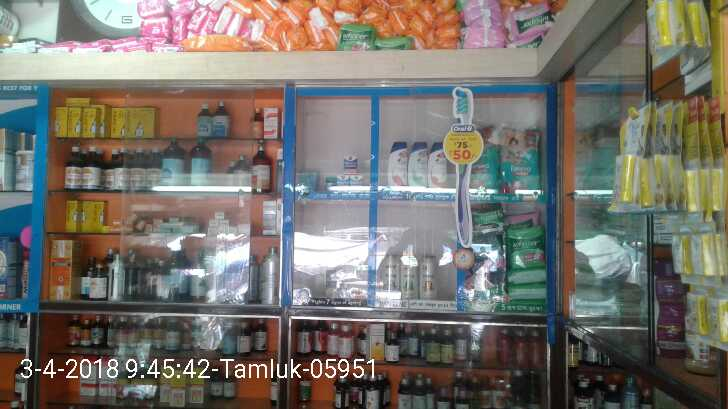vicks: (324, 154, 365, 190)
